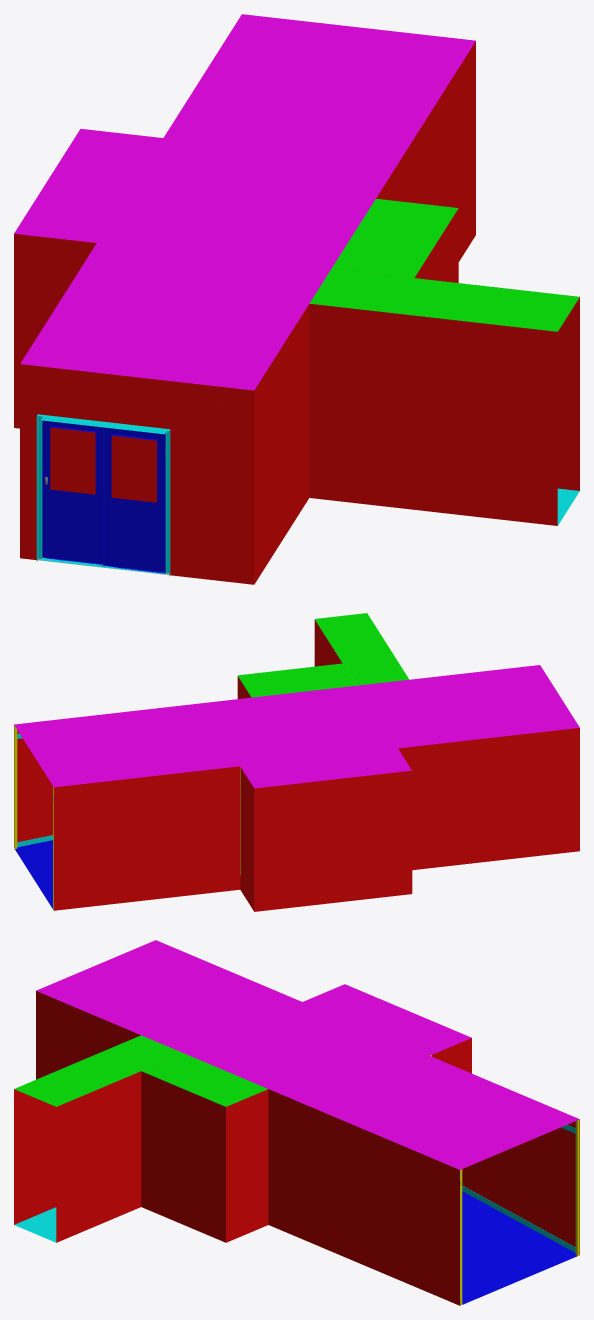
Rendered from GRP_Entrance_001.fbx.
The picture shows the model from 3 angles, top to bottom: view 1: azimuth 30°, elevation 25°; view 2: azimuth 150°, elevation 25°; view 3: azimuth 270°, elevation 25°; orthographic projection. The views are drawn at different scales.
Parts seen in each view (by area): view 1: SM_EntranceCeilling_001, SM_ReceptionWall_005, SM_EntranceWall_001, SM_EntranceWall_002, SM_Door_001 (×2), SM_ReceptionCeilling_002, SM_RestSpaceCeilling_001, SM_ReceptionCeilling_001, SM_RestSpaceWall_001, SM_Grass_001 (×2), SM_ReceptionWall_004, SM_ReceptionWall_003 (+3 smaller); view 2: SM_EntranceWall_003, SM_EntranceCeilling_001, SM_RestSpaceWall_003, SM_RestSpaceCeilling_001, SM_ReceptionCeilling_002, SM_EntranceWall_002, SM_ReceptionCeilling_001, SM_RestSpaceWall_002, SM_Floor_002, SM_ReceptionWall_004, SM_EntrancePillar_007; view 3: SM_EntranceCeilling_001, SM_EntranceWall_002, SM_ReceptionWall_004, SM_ReceptionWall_003, SM_EntranceWall_003, SM_Floor_002, SM_ReceptionWall_001, SM_ReceptionWall_005, SM_RestSpaceCeilling_001, SM_ReceptionCeilling_002, SM_ReceptionCeilling_001, SM_ReceptionFloor_002 (+3 smaller).
Boxes of the visible parts, x1,y1,x2,y2 form: SM_EntranceCeilling_001: [20, 14, 475, 390]; SM_ReceptionWall_005: [309, 303, 557, 525]; SM_EntranceWall_001: [20, 364, 254, 584]; SM_EntranceWall_002: [254, 41, 475, 584]; SM_Door_001 (×2): [42, 418, 165, 573]; SM_ReceptionCeilling_002: [309, 268, 579, 331]; SM_RestSpaceCeilling_001: [14, 129, 162, 242]; SM_ReceptionCeilling_001: [332, 198, 458, 277]; SM_RestSpaceWall_001: [14, 233, 96, 428]; SM_Grass_001 (×2): [50, 427, 156, 502]; SM_ReceptionWall_004: [557, 297, 579, 490]; SM_ReceptionWall_003: [414, 209, 458, 282]; SM_EntranceWall_003: [54, 728, 579, 910]; SM_EntranceCeilling_001: [14, 665, 579, 787]; SM_RestSpaceWall_003: [254, 770, 412, 911]; SM_RestSpaceCeilling_001: [240, 748, 411, 788]; SM_ReceptionCeilling_002: [315, 613, 408, 685]; SM_EntranceWall_002: [17, 730, 52, 842]; SM_ReceptionCeilling_001: [237, 663, 356, 697]; SM_RestSpaceWall_002: [240, 768, 254, 911]; SM_Floor_002: [15, 840, 52, 908]; SM_ReceptionWall_004: [314, 619, 342, 666]; SM_EntrancePillar_007: [14, 725, 17, 848]; SM_EntranceCeilling_001: [36, 940, 579, 1169]; SM_EntranceWall_002: [36, 991, 459, 1305]; SM_ReceptionWall_004: [56, 1071, 141, 1242]; SM_ReceptionWall_003: [141, 1071, 225, 1242]; SM_EntranceWall_003: [462, 1119, 579, 1254]; SM_Floor_002: [462, 1191, 577, 1304]; SM_ReceptionWall_001: [226, 1089, 268, 1242]; SM_ReceptionWall_005: [14, 1089, 56, 1224]; SM_RestSpaceCeilling_001: [303, 984, 471, 1055]; SM_ReceptionCeilling_002: [14, 1035, 183, 1106]; SM_ReceptionCeilling_001: [141, 1053, 267, 1106]; SM_ReceptionFloor_002: [14, 1207, 56, 1242].
Size of the model in its own units: 907 by 250 by 944.
